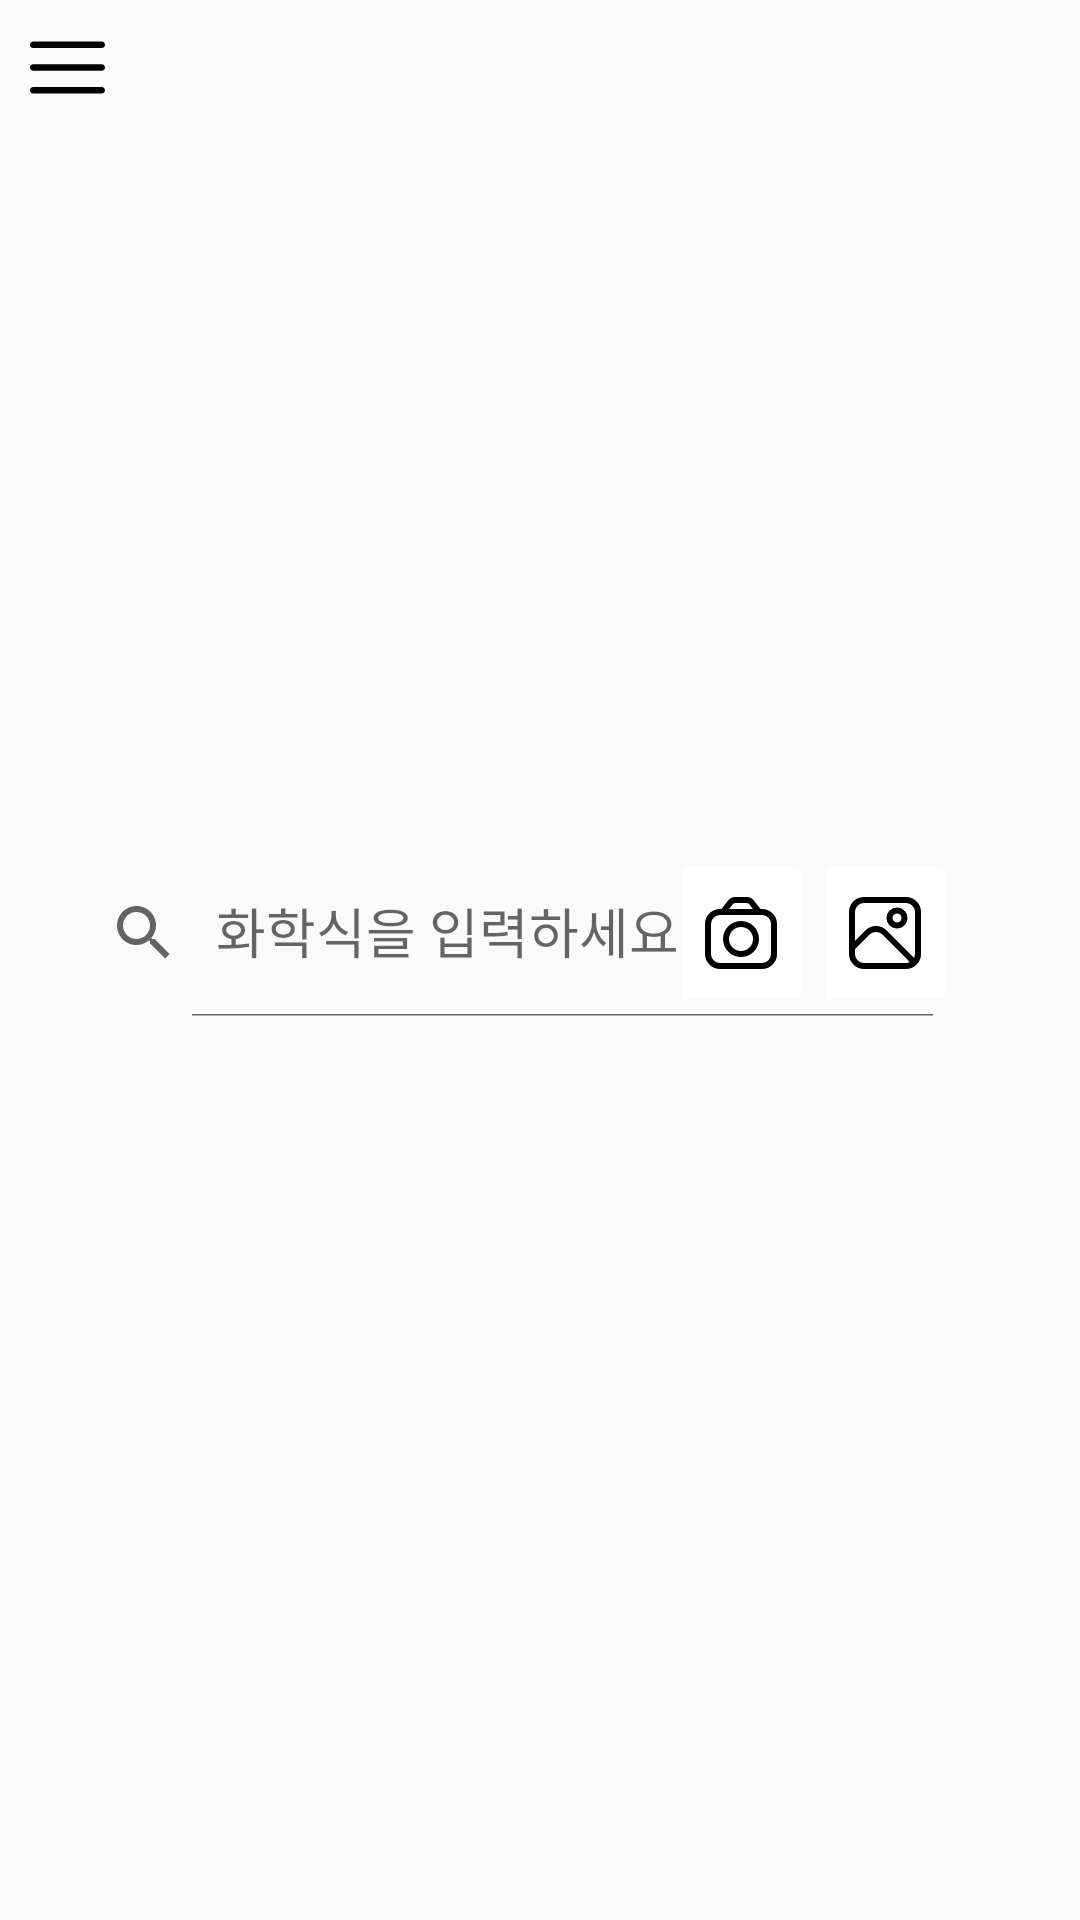

Screen size 1080*1920. Icon name, then its center in pixels as [x,y]:
camera: [741,933]
gallery: [885,933]
menu: [67,67]
